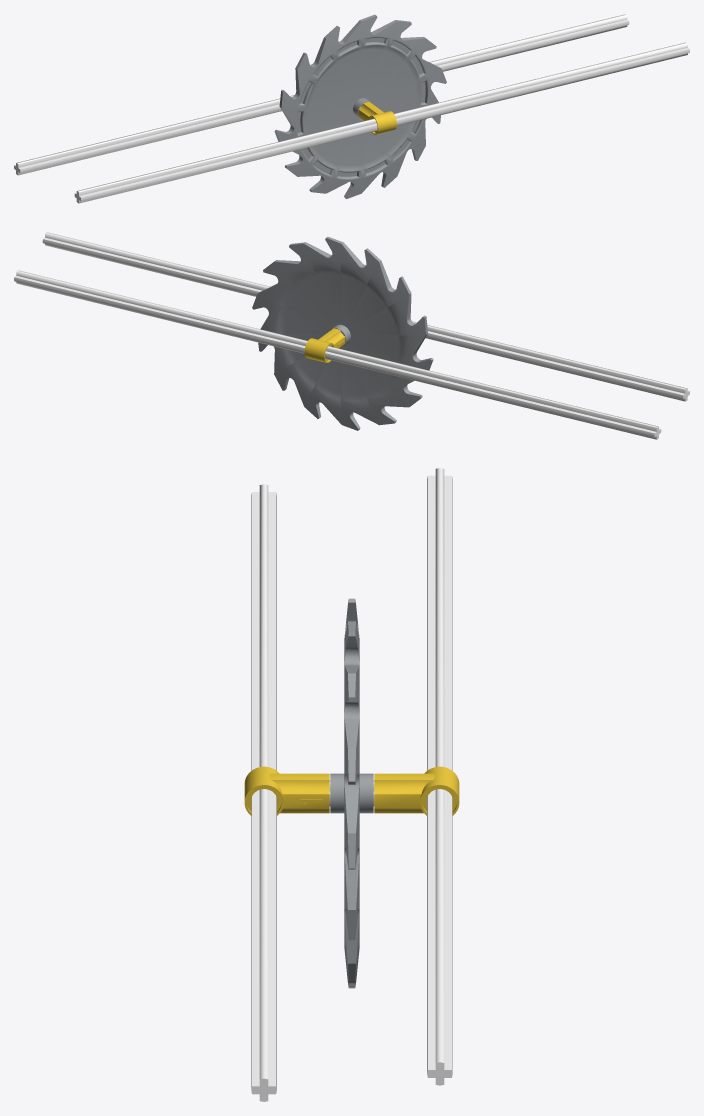
Rendered from saw.dae.
3 renders of one model, top to bottom at view 1: azimuth 30°, elevation 25°; view 2: azimuth 150°, elevation 25°; view 3: azimuth 270°, elevation 25°, orthographic. The views are drawn at different scales.
Visible parts, largest first — view 1: Inner-Node-Untitled__Model-0, Inner-Node-Untitled__Model-4, Inner-Node-Untitled__Model-5, Inner-Node-Untitled__Model-3; view 2: Inner-Node-Untitled__Model-0, Inner-Node-Untitled__Model-5, Inner-Node-Untitled__Model-4, Inner-Node-Untitled__Model-2; view 3: Inner-Node-Untitled__Model-4, Inner-Node-Untitled__Model-5, Inner-Node-Untitled__Model-0, Inner-Node-Untitled__Model-2, Inner-Node-Untitled__Model-3.
Part boxes in pixels (box(x1,y1,x2,y2)): Inner-Node-Untitled__Model-0: box(274, 14, 446, 198); Inner-Node-Untitled__Model-4: box(74, 42, 689, 203); Inner-Node-Untitled__Model-5: box(14, 14, 629, 175); Inner-Node-Untitled__Model-3: box(358, 102, 396, 134); Inner-Node-Untitled__Model-0: box(252, 236, 433, 430); Inner-Node-Untitled__Model-5: box(14, 270, 661, 439); Inner-Node-Untitled__Model-4: box(42, 232, 689, 401); Inner-Node-Untitled__Model-2: box(304, 328, 345, 362); Inner-Node-Untitled__Model-4: box(251, 484, 276, 1101); Inner-Node-Untitled__Model-5: box(427, 468, 452, 1085); Inner-Node-Untitled__Model-0: box(330, 598, 373, 988); Inner-Node-Untitled__Model-2: box(374, 766, 459, 815); Inner-Node-Untitled__Model-3: box(244, 766, 329, 815).
Size of the model in its own units: 657 by 177 by 97.75.
